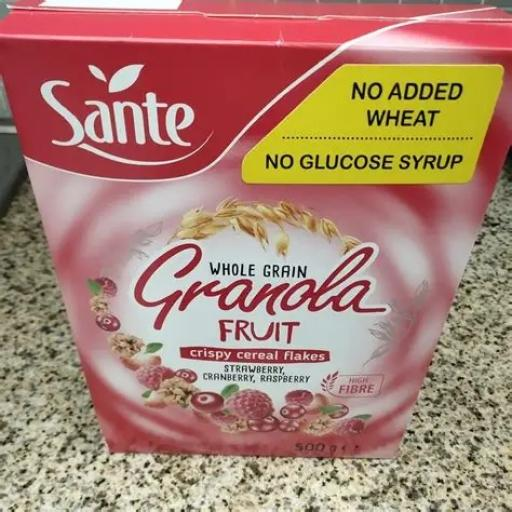granola: (2, 14, 500, 479)
